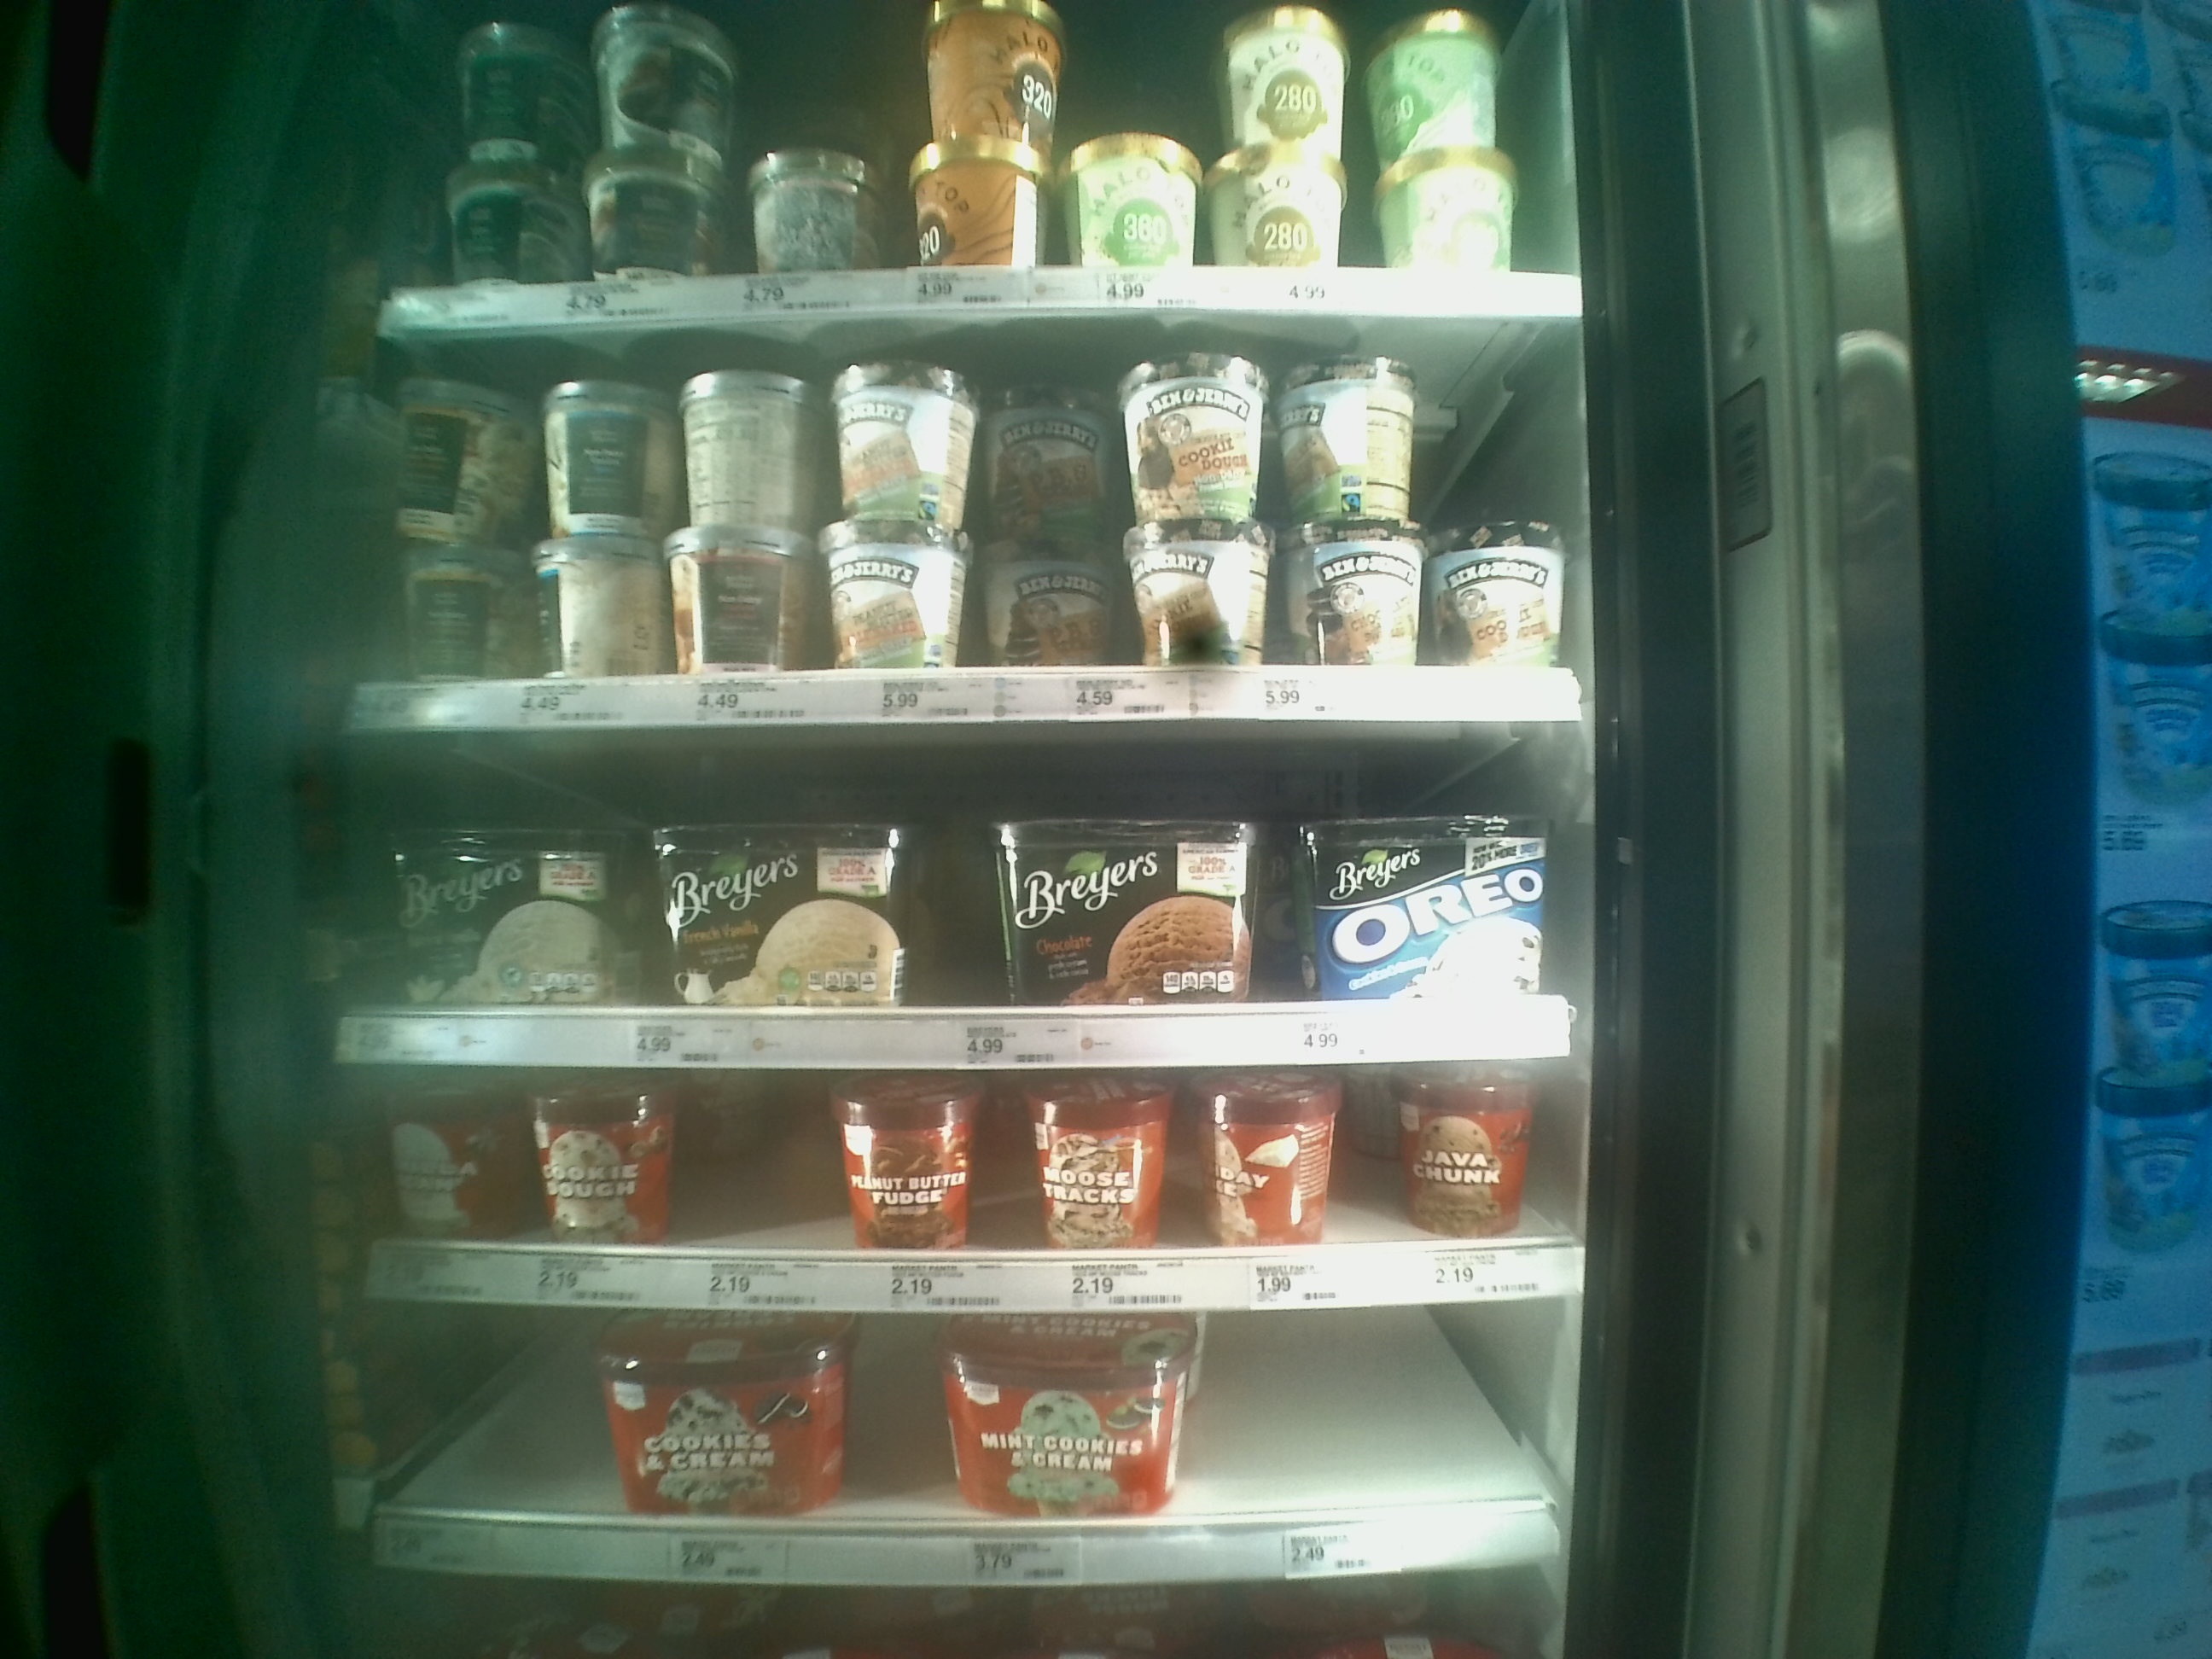shelf: (350, 319, 1583, 723), (341, 732, 1587, 1065), (347, 1303, 1581, 1572), (347, 1063, 1583, 1305)
